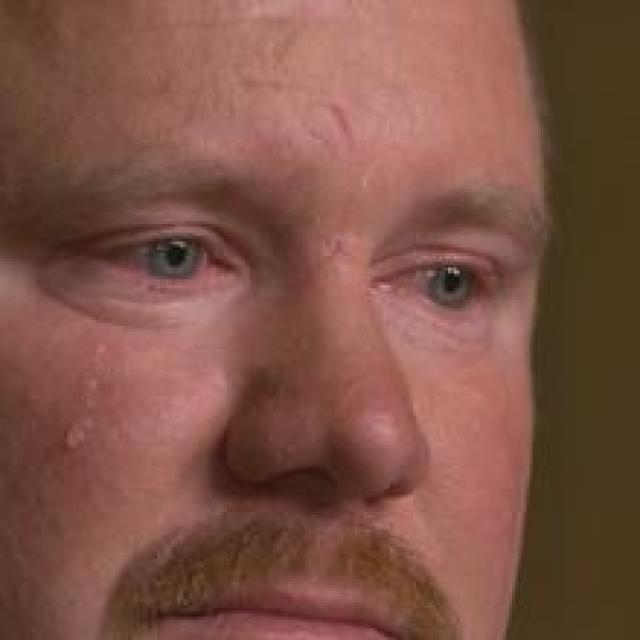Depress: (3, 0, 549, 637)
